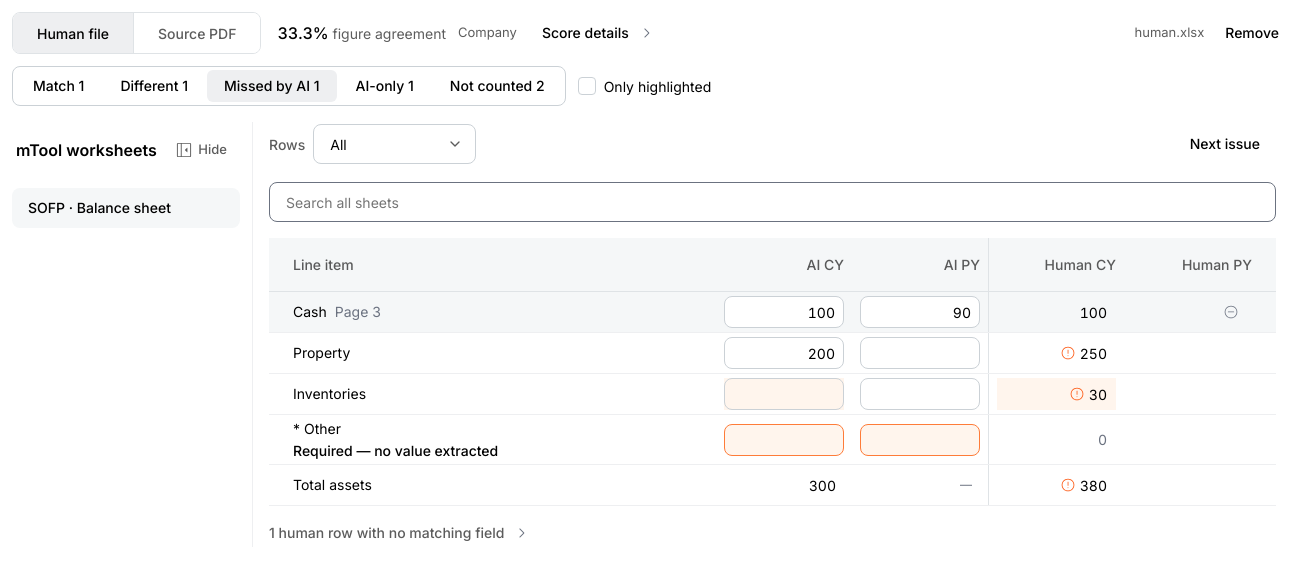
Scenario: figures view with a human file › switching to Source PDF hides the human columns and restores the PDF pane
Expected: the element with test id "human-value-cash-CY" is shown, [1080,304,1107,320]
Click the tab "Source PDF" at [197, 33], box [134,13,260,53]
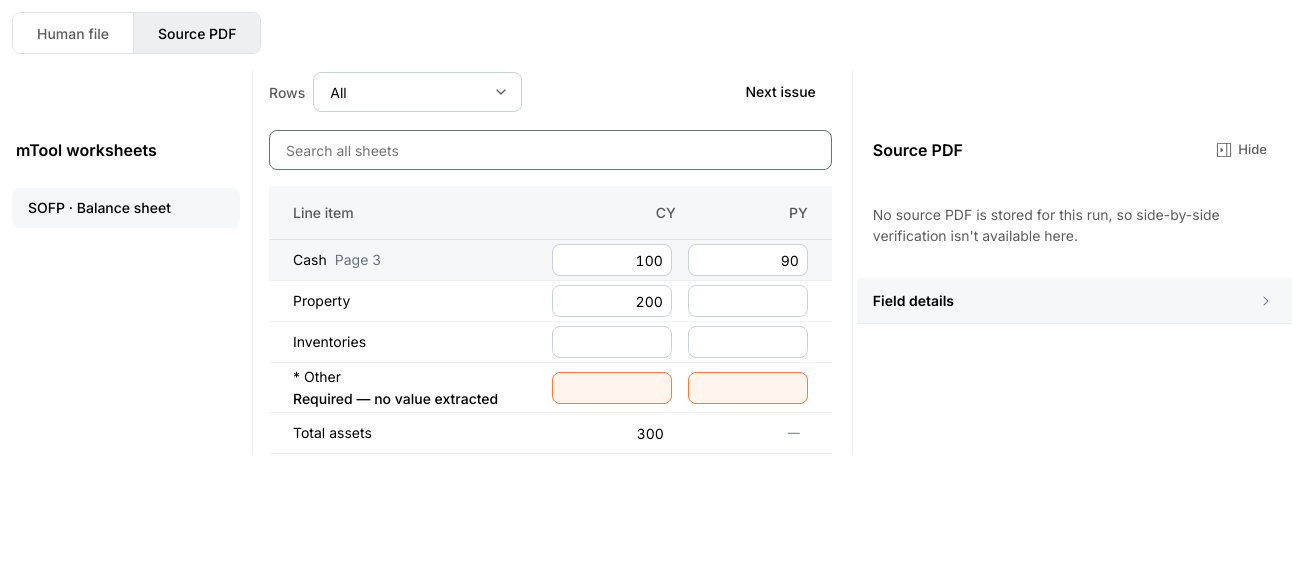
Expected: the button with test id "col-hide-pdf" is shown, [1205,133,1276,167]
Result: the element with test id "human-value-cash-CY" is gone
